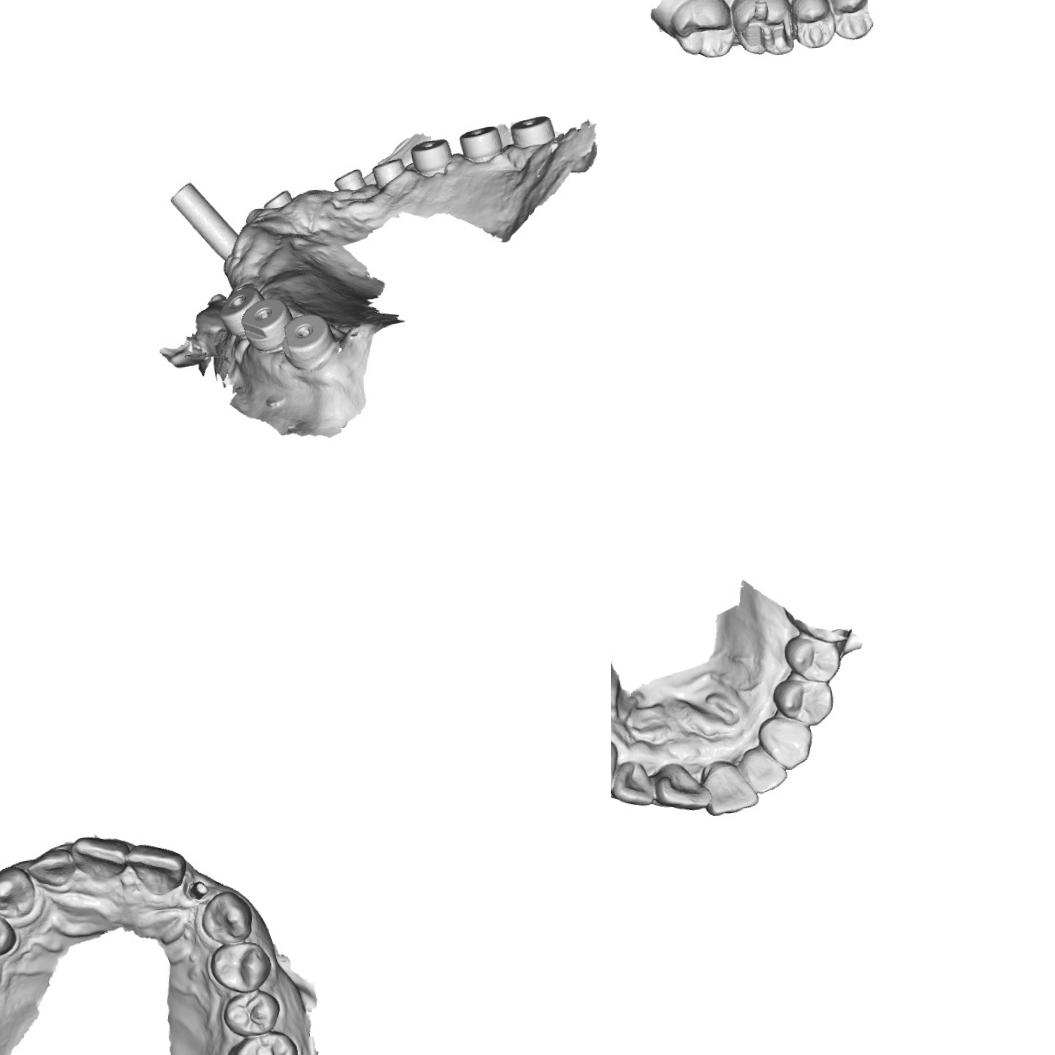canine: (198, 888, 256, 947), (756, 713, 814, 771), (0, 861, 36, 921)
implant: (166, 173, 243, 263), (278, 309, 337, 372), (236, 294, 293, 352), (218, 285, 266, 336), (454, 122, 504, 164), (506, 110, 555, 150), (406, 135, 452, 175), (329, 165, 368, 202), (368, 153, 409, 188), (256, 183, 295, 216)
incisor: (125, 834, 190, 900), (698, 756, 760, 815), (69, 830, 132, 884), (652, 758, 711, 814), (735, 744, 790, 796), (23, 842, 77, 891), (611, 758, 655, 807)
inlay: (736, 0, 790, 56)
molar: (666, 0, 736, 62), (221, 1027, 303, 1055)
premolar: (207, 934, 274, 994), (770, 674, 836, 728), (781, 630, 843, 684), (218, 987, 282, 1039), (785, 0, 837, 52), (828, 0, 873, 42), (0, 899, 19, 962)
